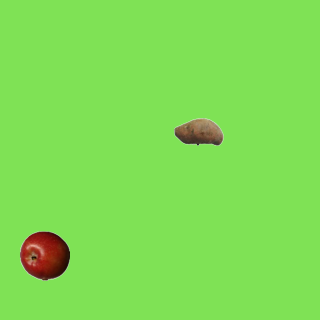Apple Braeburn: (19, 230, 69, 280)
Potato Sweet: (173, 106, 223, 156)
